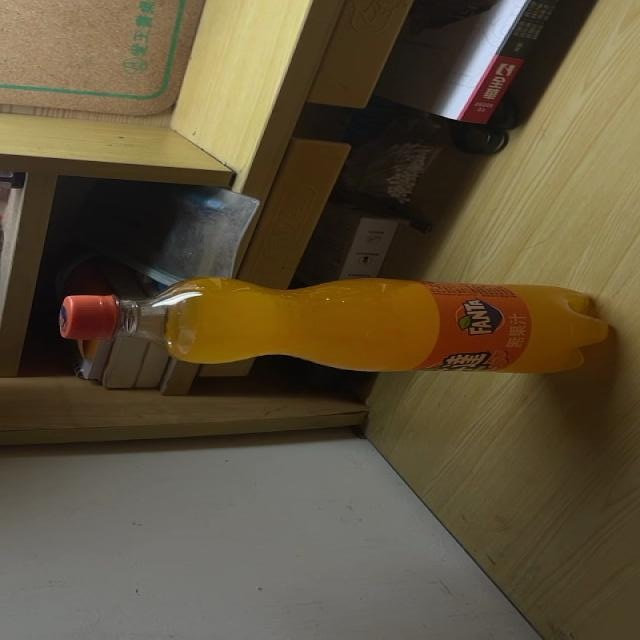Fanta: (61, 278, 611, 371)
